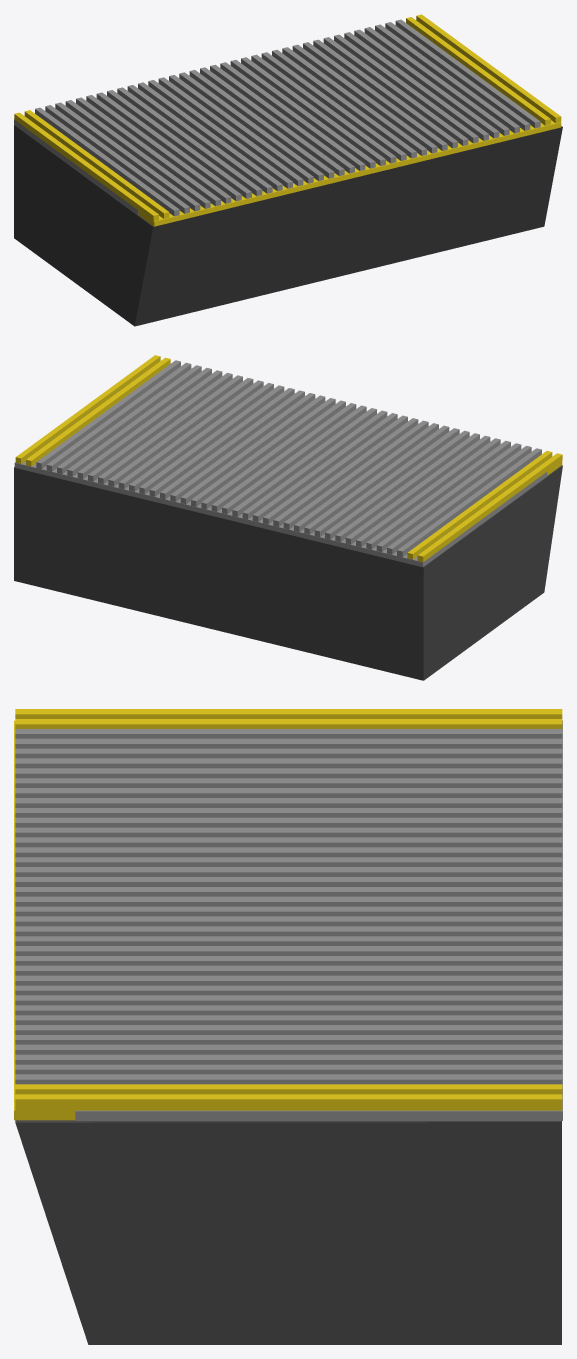
File: Step_latest.FBX
The picture shows the model from 3 angles, top to bottom: view 1: azimuth 30°, elevation 25°; view 2: azimuth 150°, elevation 25°; view 3: azimuth 270°, elevation 25°; orthographic projection. The views are drawn at different scales.
Visible parts, largest first — view 1: Line001; view 2: Line001; view 3: Line001.
Part boxes in pixels (<box>): Line001: <box>14,14,562,326</box>; Line001: <box>14,355,562,680</box>; Line001: <box>14,709,562,1344</box>.
Size of the model in its own units: 75.5 by 21.88 by 44.65.
